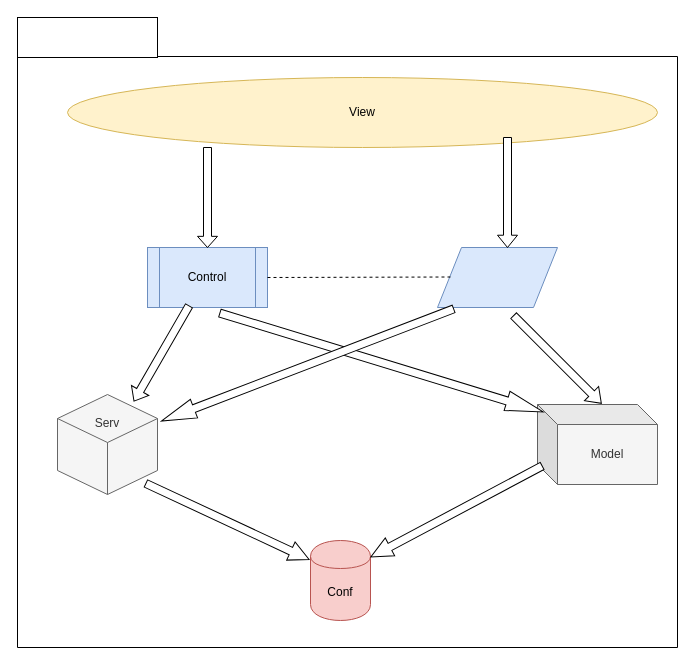
The diagram is 695 pixels wide and 665 high, and some of its shapes have lost their labels. The centre of each missing label's shape, as x and y in pixels:
Event: pixel 497 277
ModMain：管理生命周期: pixel 87 37
